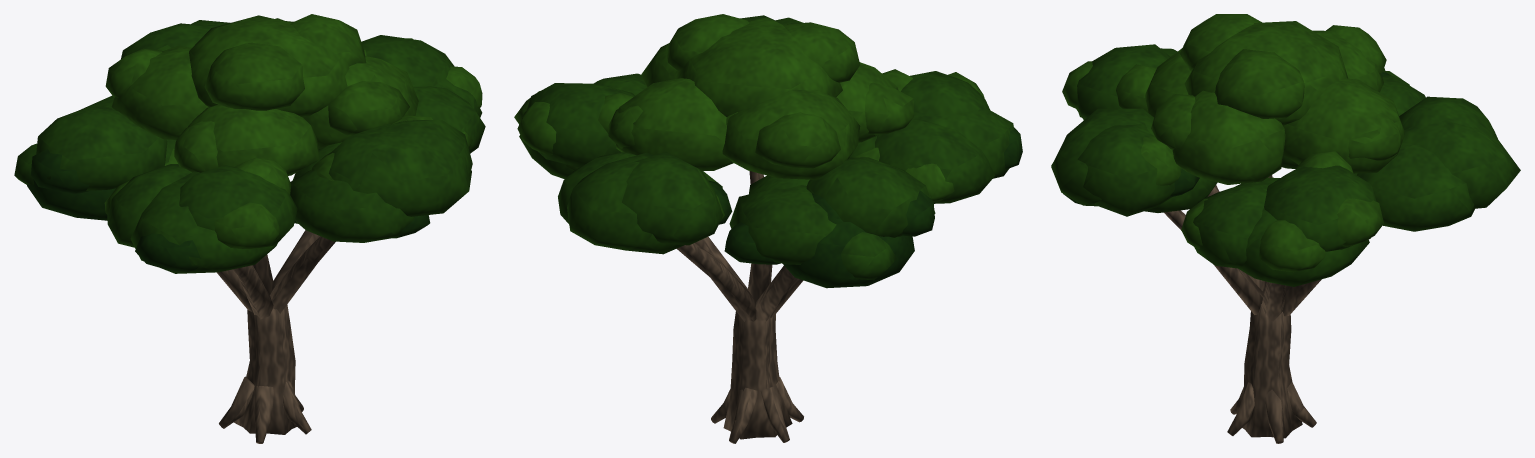
File: prop_oak_tree.glb
3 renders of one model, left to right at view 1: azimuth 30°, elevation 25°; view 2: azimuth 150°, elevation 25°; view 3: azimuth 270°, elevation 25°, orthographic.
Visible parts, largest first — view 1: Oak_CanopyMid, Oak_CanopySun, Oak_TrunkAndLimbs, Oak_CanopyDeep; view 2: Oak_CanopyMid, Oak_CanopySun, Oak_TrunkAndLimbs, Oak_CanopyDeep; view 3: Oak_CanopySun, Oak_CanopyMid, Oak_TrunkAndLimbs, Oak_CanopyDeep.
Part boxes in pixels (x1,y1,x2,y2): Oak_CanopyMid: (14,20,485,273); Oak_CanopySun: (104,14,482,249); Oak_TrunkAndLimbs: (216,230,335,443); Oak_CanopyDeep: (27,149,430,271); Oak_CanopyMid: (519,15,1014,280); Oak_CanopySun: (514,14,984,221); Oak_TrunkAndLimbs: (677,171,803,443); Oak_CanopyDeep: (708,127,1022,288); Oak_CanopySun: (1062,14,1404,272); Oak_CanopyMid: (1051,44,1520,286); Oak_TrunkAndLimbs: (1164,175,1321,443); Oak_CanopyDeep: (1063,72,1390,204).
Bounding box in the file's own units: 10.13 × 9.01 × 9.76.
4 materials, 4 textured.
